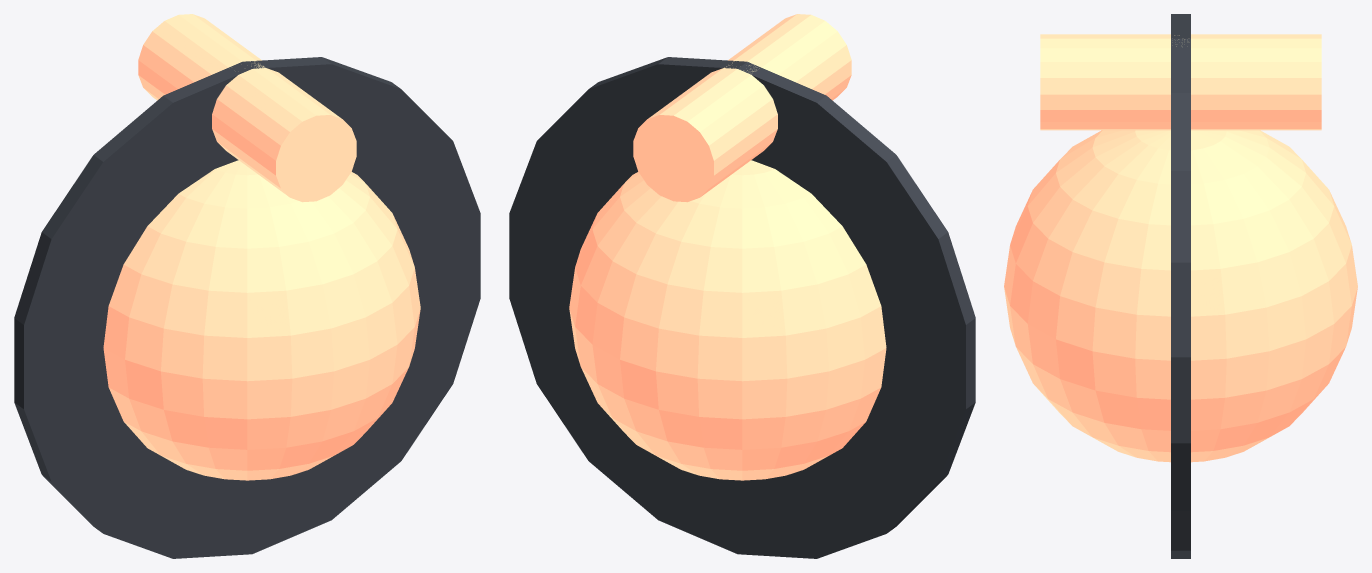
File: drone_sniper.glb
3 views of the same model, side by side, from view 1: azimuth 30°, elevation 25°; view 2: azimuth 150°, elevation 25°; view 3: azimuth 270°, elevation 25° (orthographic). The views are drawn at different scales.
Visible parts, largest first — view 1: ring, core, lens; view 2: ring, core, lens; view 3: core, lens, ring.
Boxes of the visible parts, <box> form: ring: <box>14,57,480,558</box>; core: <box>103,160,420,480</box>; lens: <box>138,14,356,202</box>; ring: <box>509,57,975,558</box>; core: <box>569,160,886,480</box>; lens: <box>633,14,851,202</box>; core: <box>1004,130,1357,462</box>; lens: <box>1040,34,1321,130</box>; ring: <box>1171,14,1190,558</box>.
Size of the model in its own units: 0.6697 by 0.68 by 0.44.
